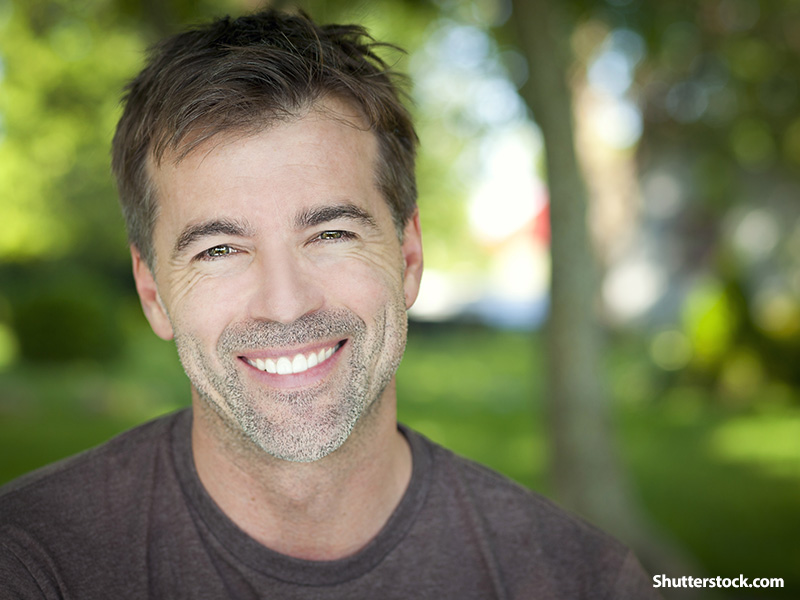happy: (137, 180, 434, 464)
